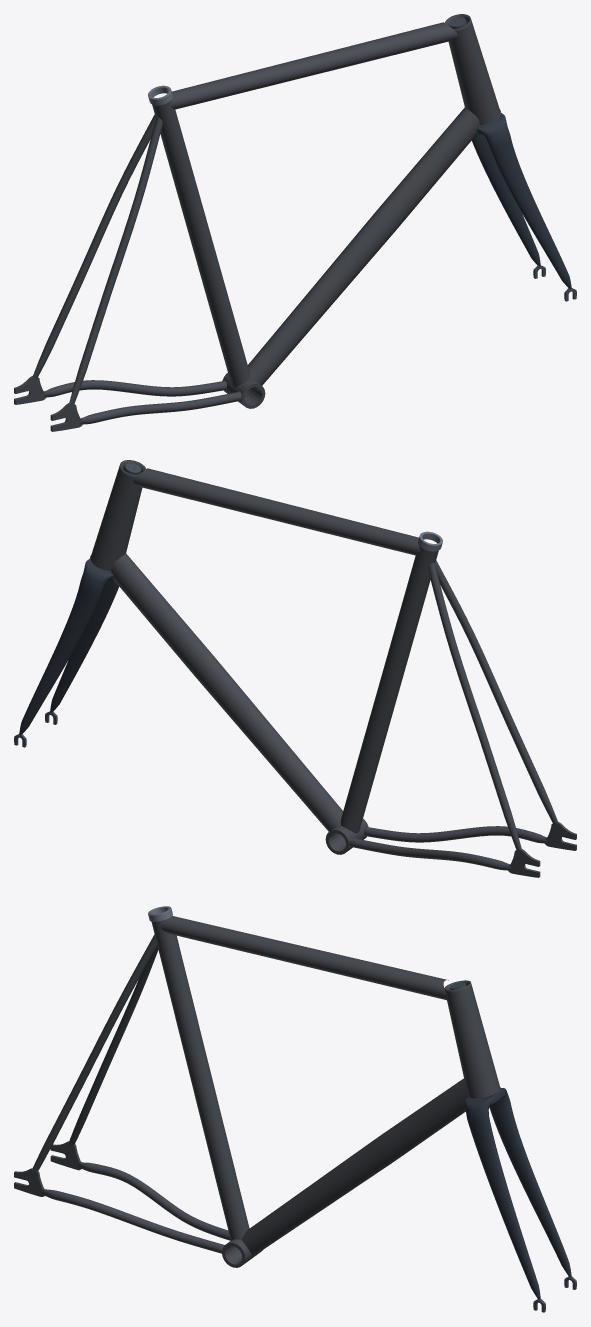
The model's file is skream-magnum-xl.glb.
3 renders of one model, top to bottom at view 1: azimuth 30°, elevation 25°; view 2: azimuth 150°, elevation 25°; view 3: azimuth 330°, elevation 25°, orthographic.
Visible parts, largest first — view 1: paint_down, paint_seat, paint_top, paint_head, fork_blade_1, paint_seatstay_1, paint_seatstay_-1, fork_blade_-1, paint_chainstay_-1, paint_chainstay_1, paint_bottom_bracket, fork_crown (+2 smaller); view 2: paint_down, paint_seat, paint_top, paint_head, fork_blade_-1, paint_seatstay_-1, paint_seatstay_1, fork_blade_1, paint_chainstay_1, paint_chainstay_-1, paint_bottom_bracket, fork_crown (+2 smaller); view 3: paint_down, paint_seat, paint_top, paint_head, fork_blade_1, fork_blade_-1, paint_seatstay_1, paint_chainstay_1, paint_seatstay_-1, paint_chainstay_-1, fork_crown, paint_bottom_bracket (+2 smaller).
Part boxes in pixels (left/top/right/bottom): paint_down: left=248, top=107, right=479, bottom=385; paint_seat: left=152, top=100, right=250, bottom=387; paint_top: left=170, top=22, right=457, bottom=109; paint_head: left=445, top=14, right=500, bottom=125; fork_blade_1: left=489, top=135, right=571, bottom=288; paint_seatstay_1: left=69, top=116, right=162, bottom=403; paint_seatstay_-1: left=32, top=114, right=156, bottom=379; fork_blade_-1: left=471, top=133, right=540, bottom=266; paint_chainstay_-1: left=43, top=380, right=226, bottom=397; paint_chainstay_1: left=79, top=391, right=241, bottom=424; paint_bottom_bracket: left=222, top=372, right=265, bottom=408; fork_crown: left=477, top=113, right=510, bottom=145; paint_down: left=111, top=553, right=342, bottom=831; paint_seat: left=340, top=546, right=438, bottom=833; paint_top: left=133, top=468, right=420, bottom=555; paint_head: left=90, top=460, right=145, bottom=571; fork_blade_-1: left=19, top=581, right=101, bottom=734; paint_seatstay_-1: left=428, top=562, right=521, bottom=849; paint_seatstay_1: left=434, top=560, right=558, bottom=825; fork_blade_1: left=50, top=579, right=119, bottom=712; paint_chainstay_1: left=364, top=826, right=547, bottom=843; paint_chainstay_-1: left=349, top=837, right=511, bottom=870; paint_bottom_bracket: left=325, top=818, right=368, bottom=854; fork_crown: left=80, top=559, right=113, bottom=591; paint_down: left=241, top=1078, right=468, bottom=1255; paint_seat: left=151, top=920, right=249, bottom=1240; paint_top: left=160, top=916, right=448, bottom=1000; paint_head: left=444, top=980, right=500, bottom=1098; fork_blade_1: left=467, top=1117, right=540, bottom=1299; fork_blade_-1: left=489, top=1102, right=571, bottom=1277; paint_seatstay_1: left=32, top=934, right=157, bottom=1171; paint_chainstay_1: left=41, top=1189, right=224, bottom=1253; paint_seatstay_-1: left=69, top=946, right=158, bottom=1145; paint_chainstay_-1: left=78, top=1162, right=230, bottom=1240; fork_crown: left=464, top=1088, right=510, bottom=1120; paint_bottom_bracket: left=222, top=1239, right=262, bottom=1267.
Bounding box in the file's own units: 1.04 × 0.6224 × 0.1441.
